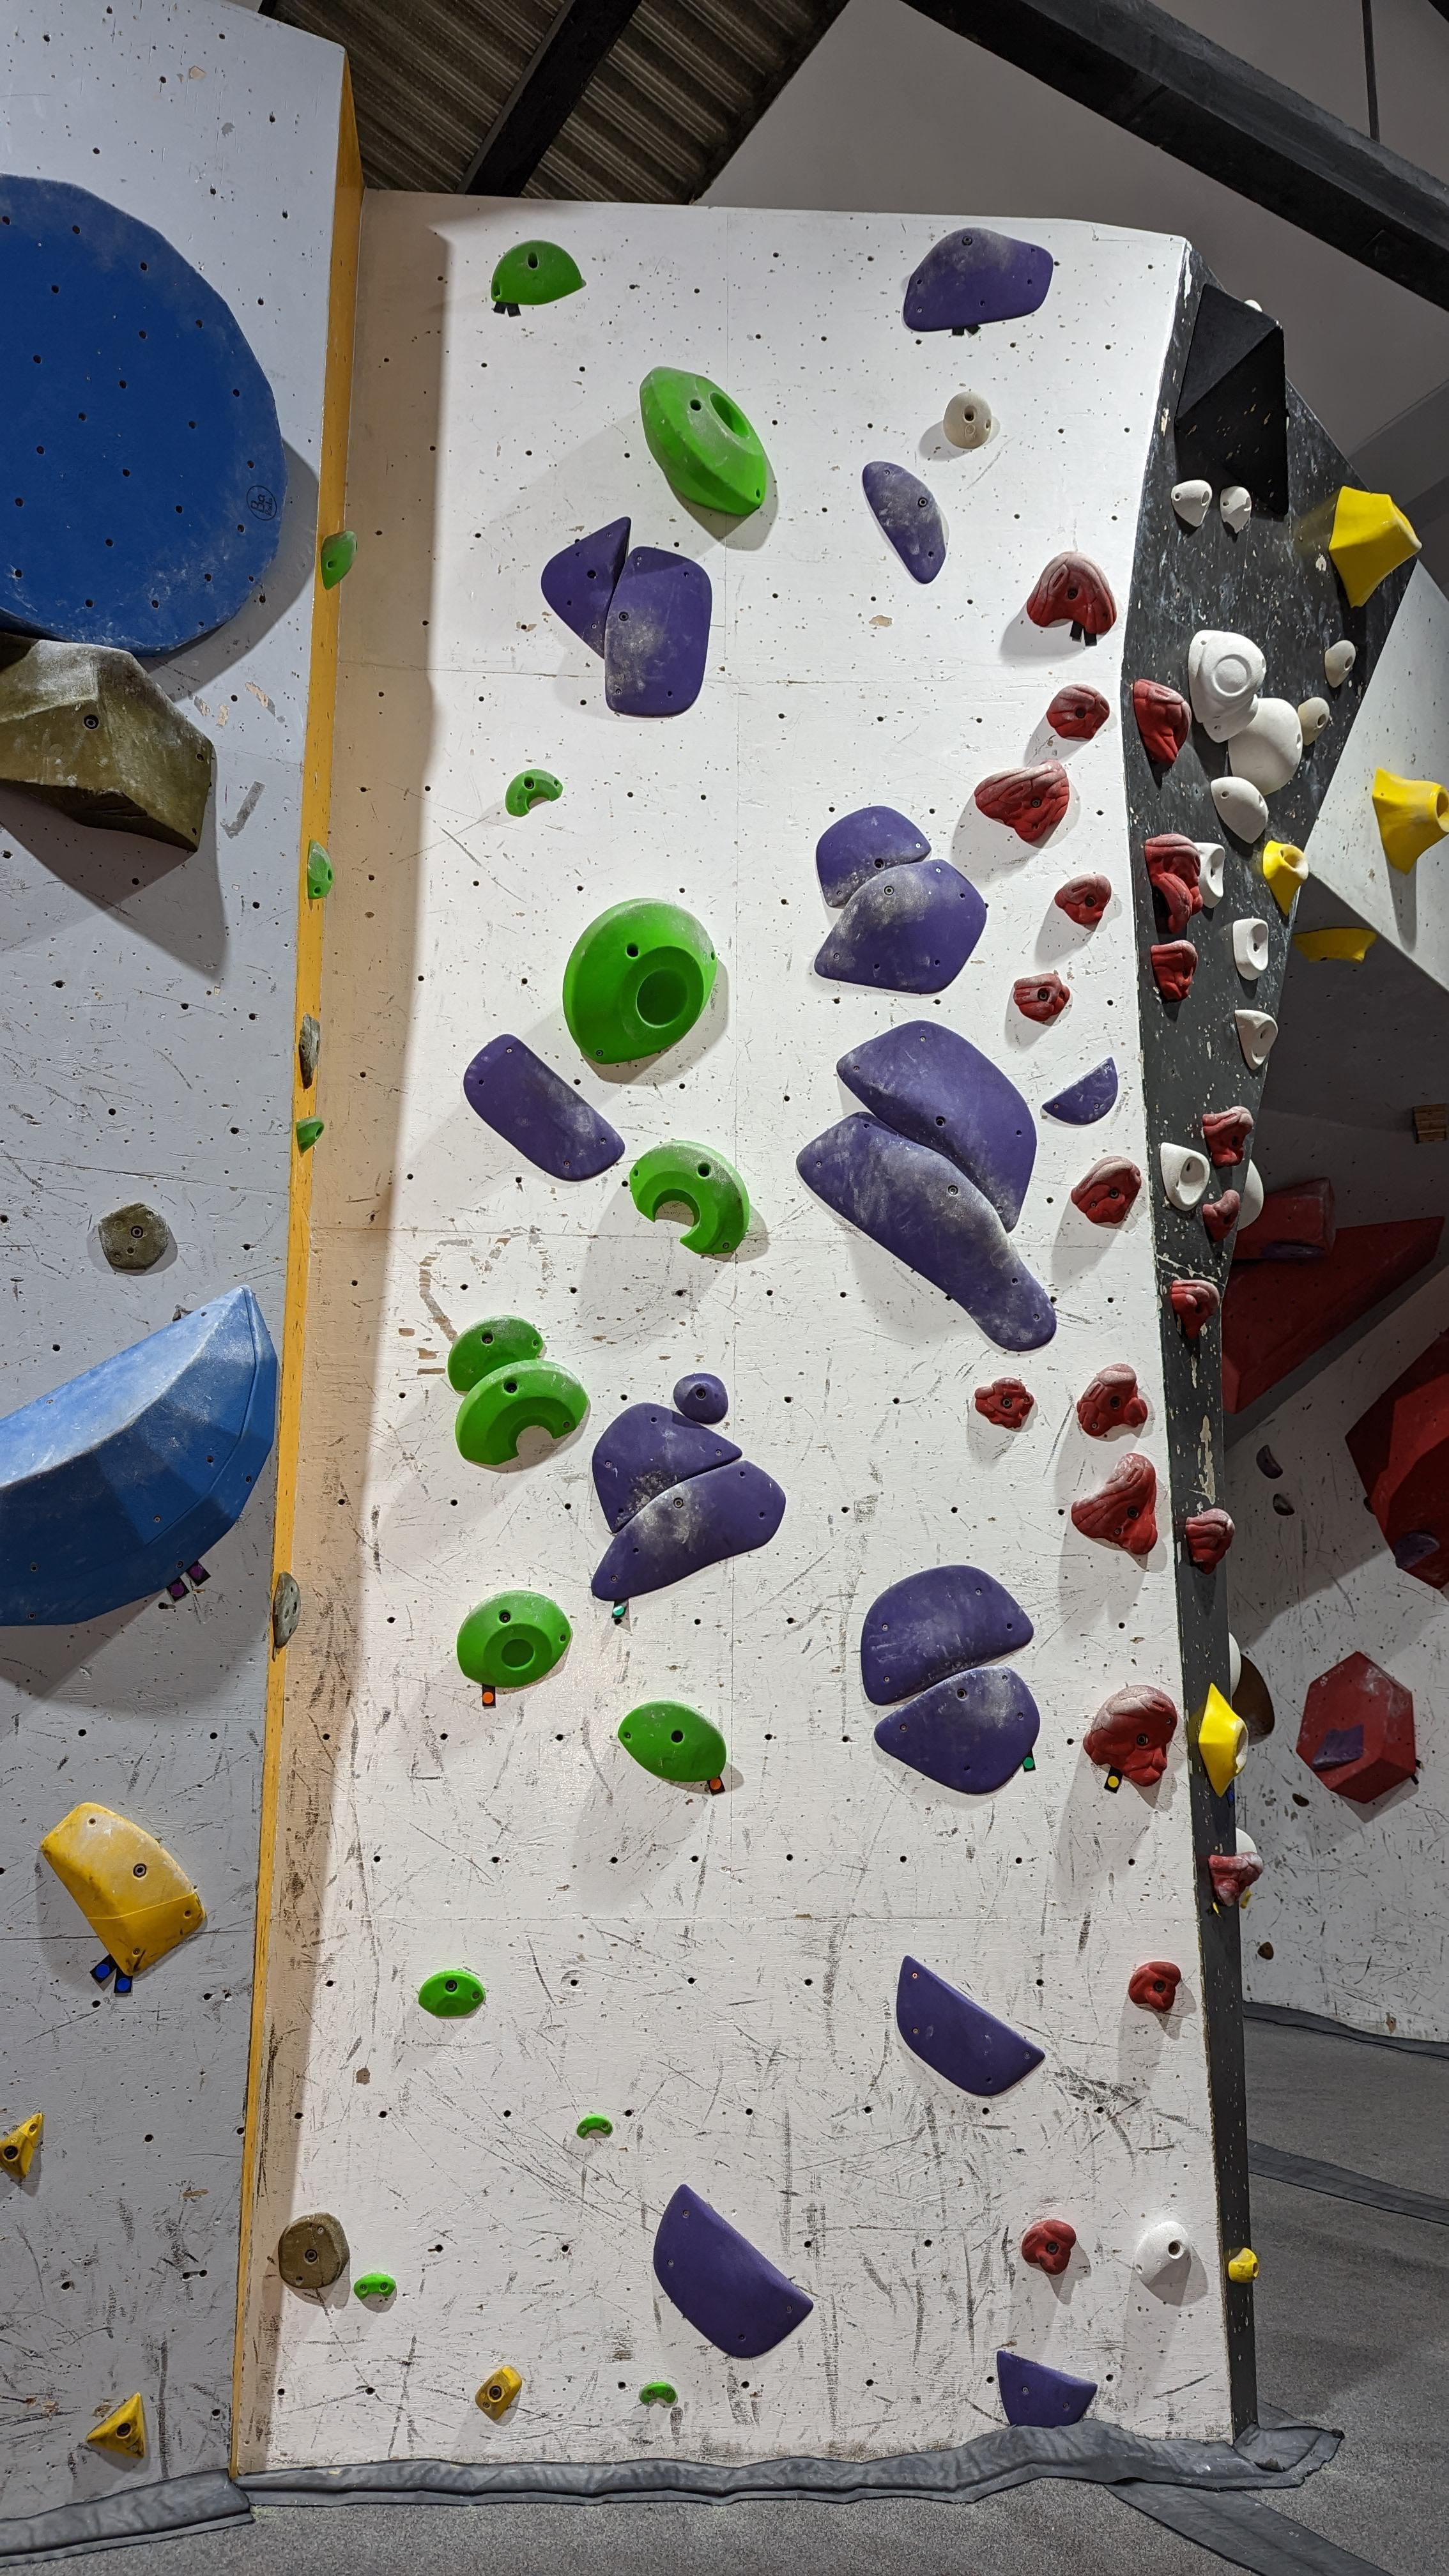hold: (0, 172, 288, 656), (0, 1284, 276, 1626), (796, 1111, 1056, 1352), (0, 632, 212, 853), (1223, 1215, 1445, 1415), (837, 1021, 1037, 1233), (41, 1801, 205, 1976), (653, 2183, 814, 2358), (591, 1460, 786, 1601), (1345, 1327, 1449, 1589), (563, 899, 717, 1065), (860, 1564, 1033, 1706), (464, 1033, 625, 1182), (814, 858, 987, 994), (874, 1665, 1040, 1794), (897, 1955, 1046, 2097), (593, 1403, 743, 1534), (640, 366, 766, 517), (605, 547, 713, 717), (1295, 1651, 1415, 1803), (902, 228, 1053, 333), (455, 1359, 589, 1465), (630, 1141, 750, 1254), (541, 517, 632, 660), (1329, 485, 1422, 609), (816, 807, 931, 906), (456, 1591, 571, 1688), (862, 462, 947, 584), (1083, 1684, 1177, 1787), (1070, 1453, 1157, 1555), (617, 1700, 725, 1782), (1231, 1177, 1336, 1260), (1373, 768, 1449, 876), (996, 2350, 1099, 2427), (975, 759, 1069, 844), (1026, 550, 1116, 633), (1187, 630, 1267, 724), (1228, 699, 1302, 798), (448, 1315, 543, 1391), (490, 239, 582, 304), (1198, 1683, 1249, 1798), (1145, 833, 1203, 932), (278, 2212, 350, 2289), (1076, 1362, 1148, 1437), (1042, 1056, 1118, 1125), (1134, 678, 1192, 766), (99, 1201, 170, 1270), (1070, 1155, 1141, 1224), (87, 2392, 145, 2459), (1210, 777, 1269, 844), (1134, 2220, 1192, 2286), (1159, 1141, 1210, 1210), (1231, 1654, 1274, 1737), (1263, 840, 1309, 916), (1046, 685, 1109, 740), (1185, 1507, 1235, 1575), (1292, 927, 1378, 964), (418, 1969, 485, 2017), (1201, 1106, 1254, 1166), (1021, 2219, 1076, 2275), (1208, 1851, 1263, 1907), (975, 1378, 1035, 1428), (1169, 1279, 1219, 1339), (1054, 874, 1111, 925), (1150, 939, 1198, 1000), (674, 1373, 729, 1424), (1203, 694, 1260, 743), (943, 391, 991, 449), (0, 2112, 42, 2178), (1014, 973, 1070, 1021), (1127, 1962, 1180, 2012), (474, 2365, 522, 2420), (506, 770, 563, 816), (1233, 1010, 1277, 1069), (320, 531, 359, 591), (1233, 918, 1269, 980), (1313, 1725, 1362, 1769), (272, 1571, 301, 1647), (1194, 842, 1226, 908), (1203, 1189, 1240, 1242), (1171, 479, 1212, 527), (1237, 1159, 1263, 1231), (1396, 1530, 1440, 1569), (299, 1012, 320, 1090), (1297, 697, 1330, 745), (1219, 487, 1253, 533), (1412, 1102, 1449, 1143), (308, 839, 333, 899), (1325, 639, 1355, 688), (354, 2273, 396, 2300), (1228, 2247, 1260, 2282), (1261, 1242, 1323, 1258), (297, 1116, 324, 1152), (1256, 1445, 1283, 1479), (639, 2381, 676, 2404), (1228, 1631, 1240, 1698), (577, 2114, 612, 2137), (1235, 1828, 1258, 1856), (1272, 1493, 1295, 1516), (1258, 1941, 1274, 1959), (1362, 1497, 1376, 1514), (1244, 299, 1263, 311), (1292, 1794, 1309, 1806)
volume: (1175, 283, 1288, 517)
